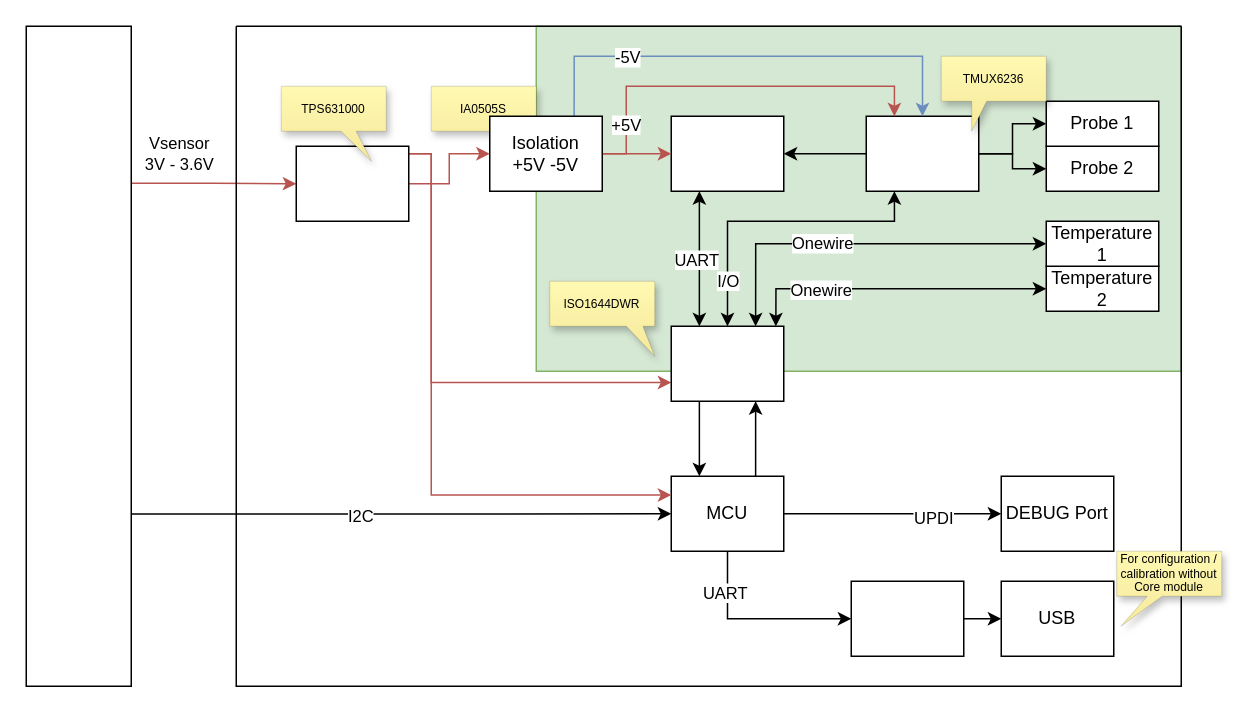
Some shapes in this 1257 by 713 pixel diagram are drawn without their labels. Each missing label, with the centre of its shape:
2x 2:1 mux: pixel 922 153
Boost 5V: pixel 352 183
EZO EC Module: pixel 727 153
MFM V4: pixel 78 355
Signal Isolation: pixel 727 363
USB-UART: pixel 907 618
